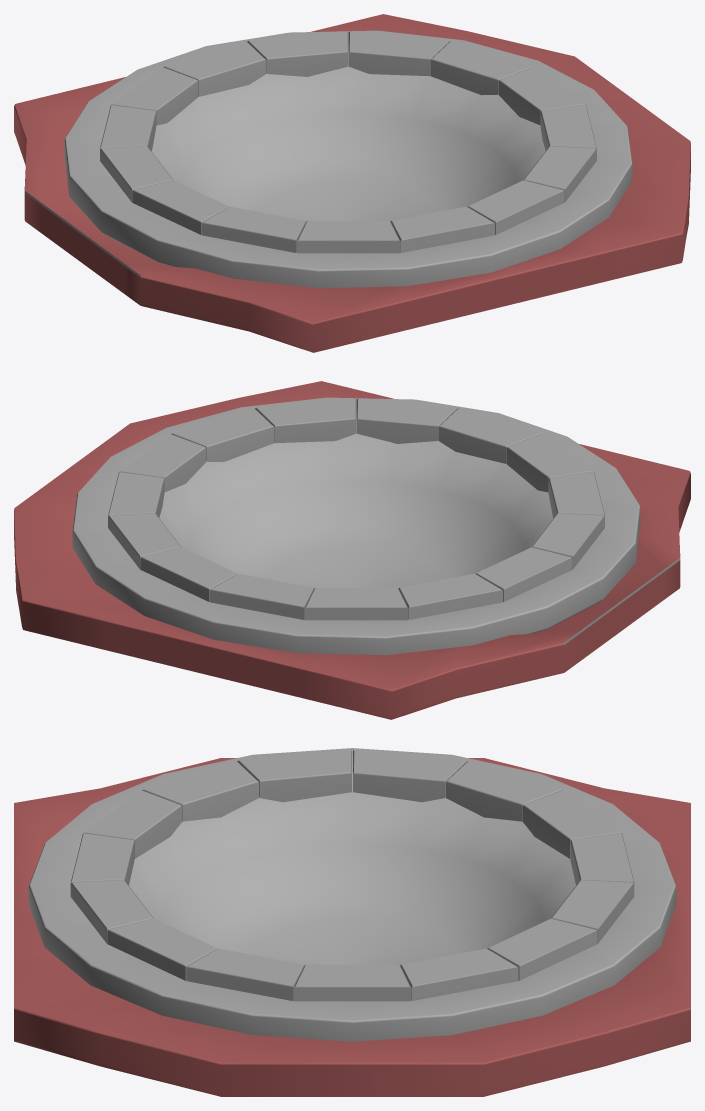
Rendered from Add8p1.fbx.
The picture shows the model from 3 angles, top to bottom: view 1: azimuth 30°, elevation 25°; view 2: azimuth 150°, elevation 25°; view 3: azimuth 270°, elevation 25°; orthographic projection. The views are drawn at different scales.
Visible parts, largest first — view 1: polySurface41; view 2: polySurface41; view 3: polySurface41.
Boxes of the visible parts, bbox=[...] form: polySurface41: bbox=[14, 14, 690, 352]; polySurface41: bbox=[14, 381, 690, 719]; polySurface41: bbox=[14, 748, 690, 1096].
Bounding box in the file's own units: 13.84 × 2.32 × 13.
